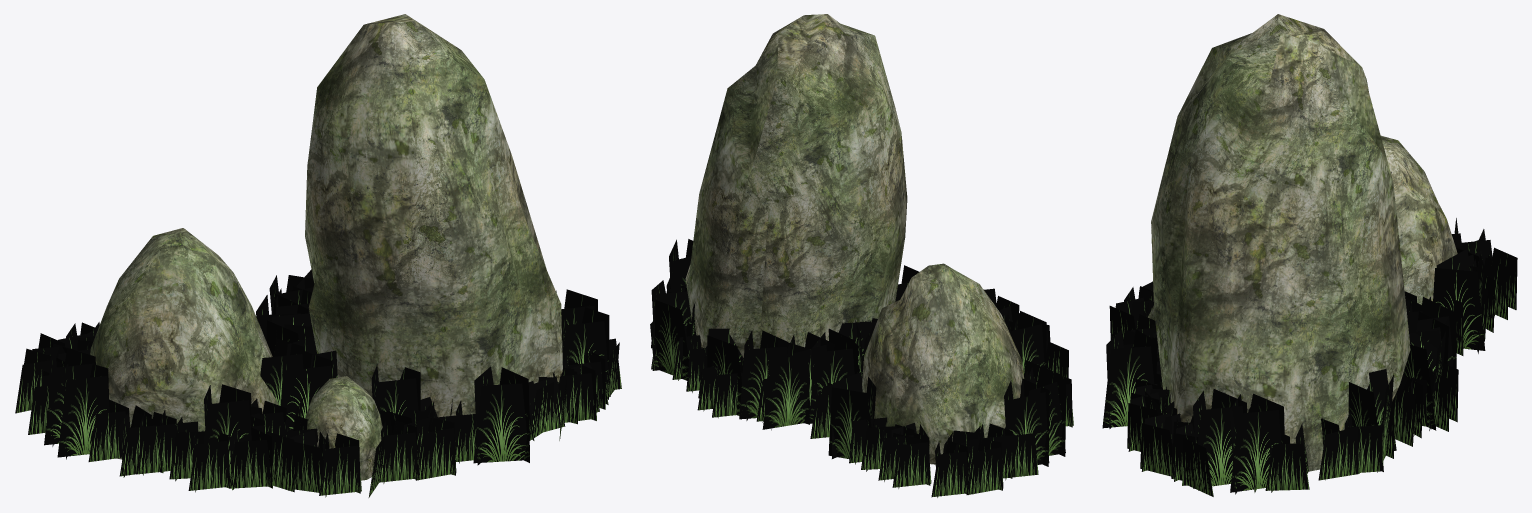
3 renders of one model, left to right at view 1: azimuth 30°, elevation 25°; view 2: azimuth 150°, elevation 25°; view 3: azimuth 270°, elevation 25°, orthographic. The views are drawn at different scales.
Visible parts, largest first — view 1: polySurface4_polySurface4Shape.001, r08pol00_directionalLight2_directionalLight1Shape.001; view 2: polySurface4_polySurface4Shape.001, r08pol00_directionalLight2_directionalLight1Shape.001; view 3: polySurface4_polySurface4Shape.001, r08pol00_directionalLight2_directionalLight1Shape.001.
Part boxes in pixels (box(x1,y1,x2,y2)): polySurface4_polySurface4Shape.001: box(90, 14, 562, 480); r08pol00_directionalLight2_directionalLight1Shape.001: box(15, 269, 621, 497); polySurface4_polySurface4Shape.001: box(685, 14, 1023, 464); r08pol00_directionalLight2_directionalLight1Shape.001: box(650, 239, 1073, 497); polySurface4_polySurface4Shape.001: box(1148, 14, 1457, 471); r08pol00_directionalLight2_directionalLight1Shape.001: box(1102, 218, 1517, 496).
Size of the model in its own units: 9.91 by 7.63 by 7.2.
Materials: 2 (2 with a texture image).
